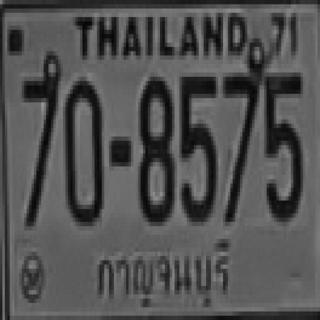N00: (63, 77, 102, 222)
N05: (263, 68, 302, 218), (179, 73, 216, 222)
N07: (21, 62, 59, 224), (221, 70, 259, 220)
N08: (138, 73, 172, 222)
P17: (88, 234, 234, 312)
